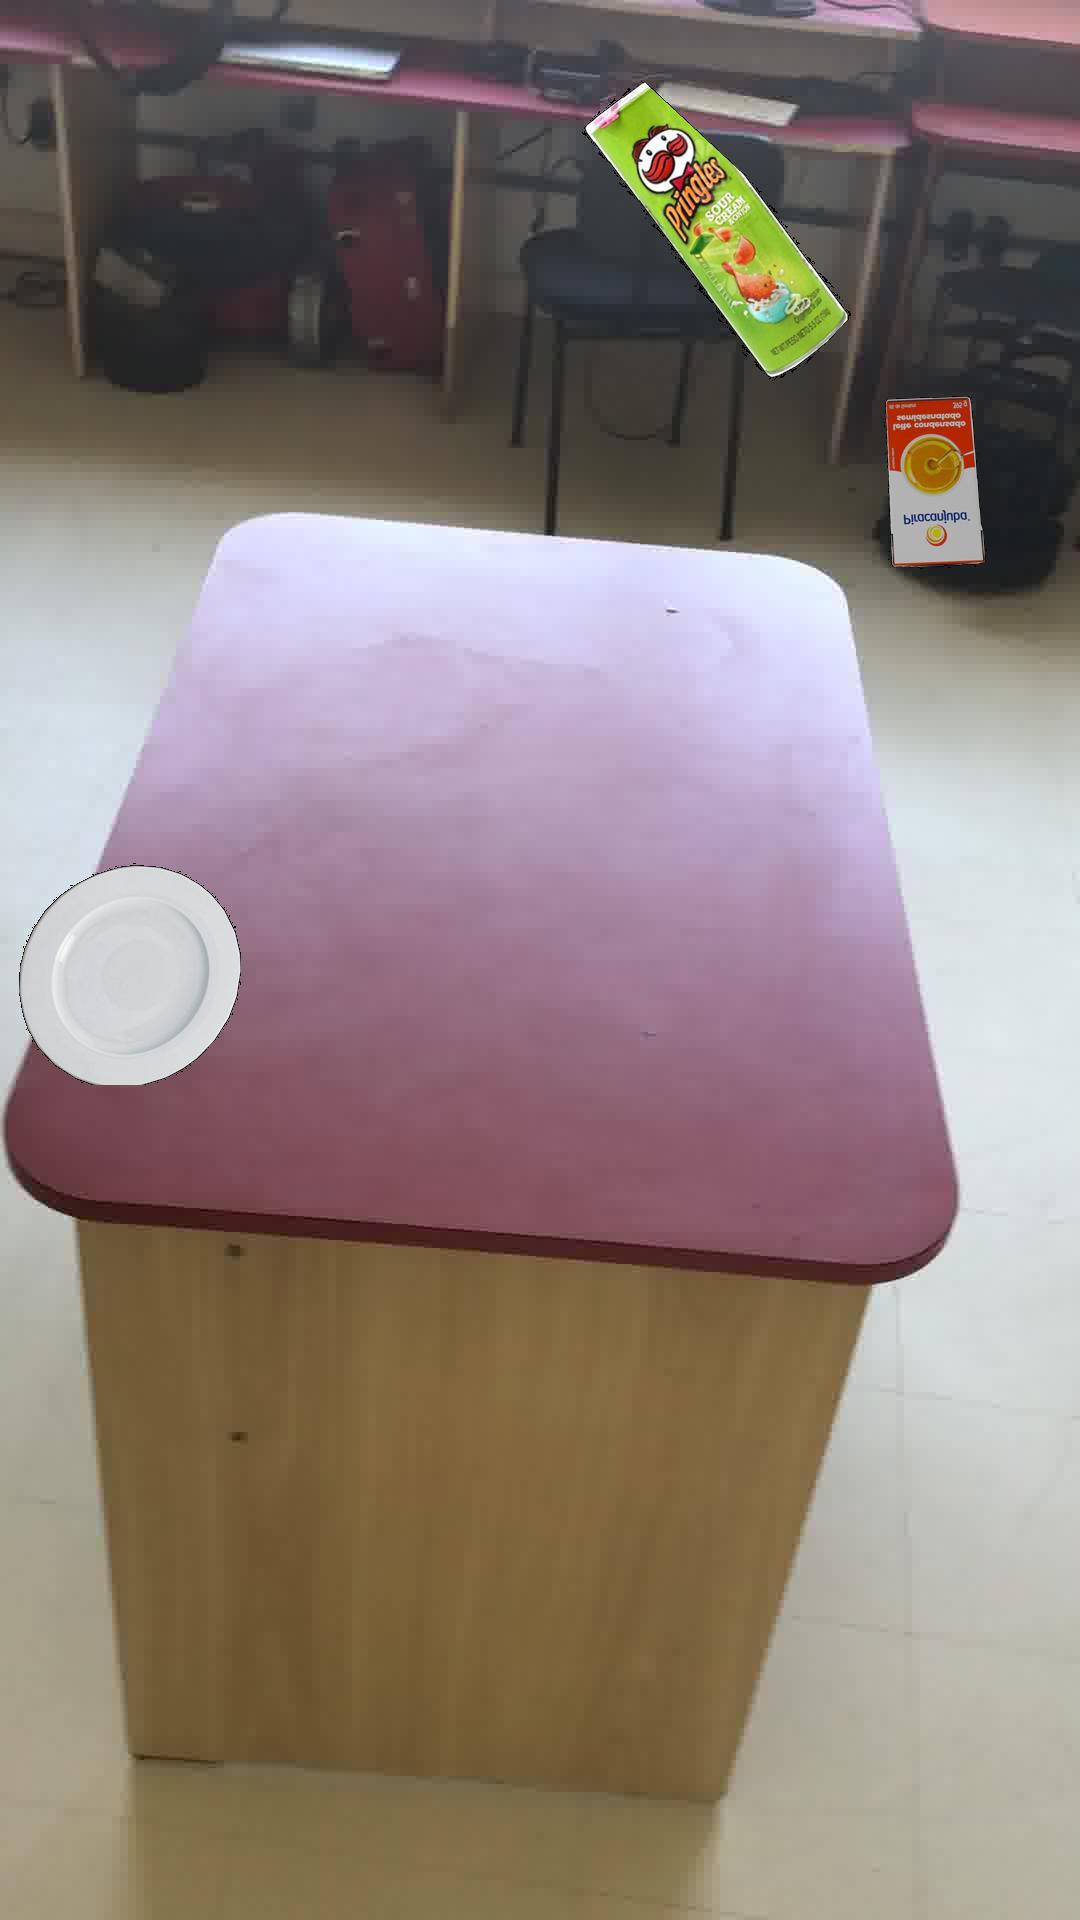plate: (17, 864, 240, 1084)
pringles: (580, 80, 849, 377)
